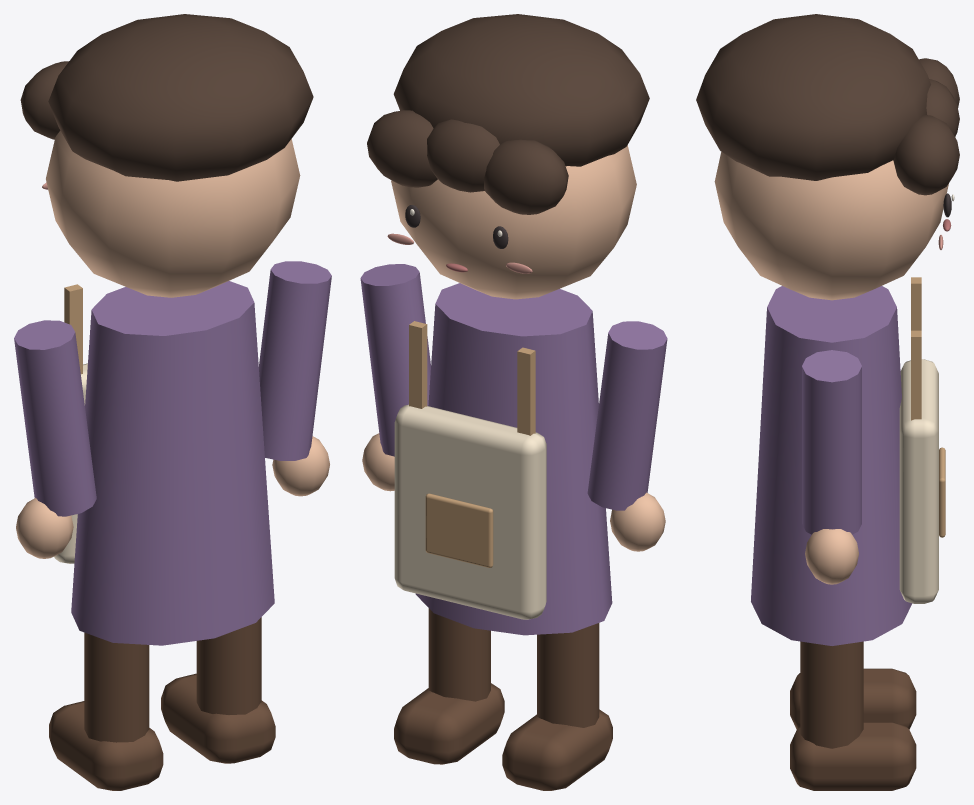
File: generic-staff-w1_1b.glb
3 views of the same model, side by side, from view 1: azimuth 30°, elevation 25°; view 2: azimuth 150°, elevation 25°; view 3: azimuth 270°, elevation 25° (orthographic). The views are drawn at different scales.
Parts seen in each view (by area): view 1: generic-staff-w1_1b.material0, generic-staff-w1_1b.material5, generic-staff-w1_1b.material4, generic-staff-w1_1b.material3, generic-staff-w1_1b.material2, generic-staff-w1_1b.material1; view 2: generic-staff-w1_1b.material0, generic-staff-w1_1b.material5, generic-staff-w1_1b.material1, generic-staff-w1_1b.material4, generic-staff-w1_1b.material3, generic-staff-w1_1b.material2, generic-staff-w1_1b.material6; view 3: generic-staff-w1_1b.material0, generic-staff-w1_1b.material5, generic-staff-w1_1b.material4, generic-staff-w1_1b.material3, generic-staff-w1_1b.material1, generic-staff-w1_1b.material2.
Part boxes in pixels (x1,y1,x2,y2): generic-staff-w1_1b.material0: [14, 261, 331, 645]; generic-staff-w1_1b.material5: [20, 14, 313, 181]; generic-staff-w1_1b.material4: [16, 130, 329, 558]; generic-staff-w1_1b.material3: [49, 617, 275, 790]; generic-staff-w1_1b.material2: [64, 284, 82, 374]; generic-staff-w1_1b.material1: [54, 363, 87, 563]; generic-staff-w1_1b.material0: [360, 264, 667, 635]; generic-staff-w1_1b.material5: [367, 14, 649, 214]; generic-staff-w1_1b.material1: [394, 404, 546, 619]; generic-staff-w1_1b.material4: [362, 145, 665, 551]; generic-staff-w1_1b.material3: [394, 608, 612, 790]; generic-staff-w1_1b.material2: [409, 321, 535, 567]; generic-staff-w1_1b.material6: [405, 205, 508, 248]; generic-staff-w1_1b.material0: [751, 286, 912, 645]; generic-staff-w1_1b.material5: [696, 14, 959, 195]; generic-staff-w1_1b.material4: [714, 152, 948, 584]; generic-staff-w1_1b.material3: [790, 641, 916, 790]; generic-staff-w1_1b.material1: [899, 359, 938, 603]; generic-staff-w1_1b.material2: [911, 277, 945, 537].
Size of the model in its own units: 0.5793 by 1.33 by 0.4385.
